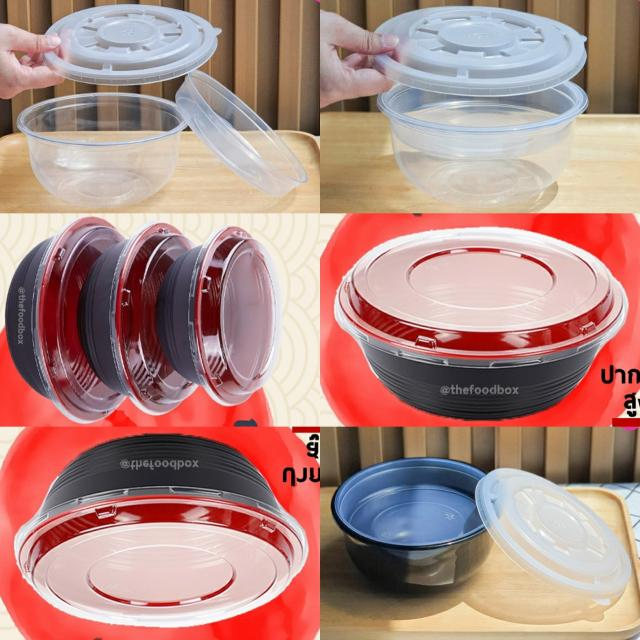Single-Use-Plastic: (14, 434, 308, 628), (335, 228, 628, 419), (378, 81, 588, 208), (5, 218, 124, 422), (156, 226, 283, 405), (79, 221, 195, 415), (332, 458, 493, 591), (475, 469, 630, 602), (18, 92, 186, 208), (374, 6, 587, 96), (176, 70, 308, 197), (44, 4, 220, 84)
